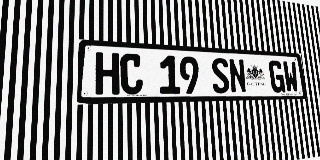1: (159, 55, 180, 94)
9: (179, 56, 200, 94)
C: (120, 53, 143, 94)
G: (268, 60, 286, 93)
H: (95, 52, 119, 95)
N: (228, 58, 247, 93)
S: (211, 57, 230, 93)
W: (282, 61, 299, 92)
